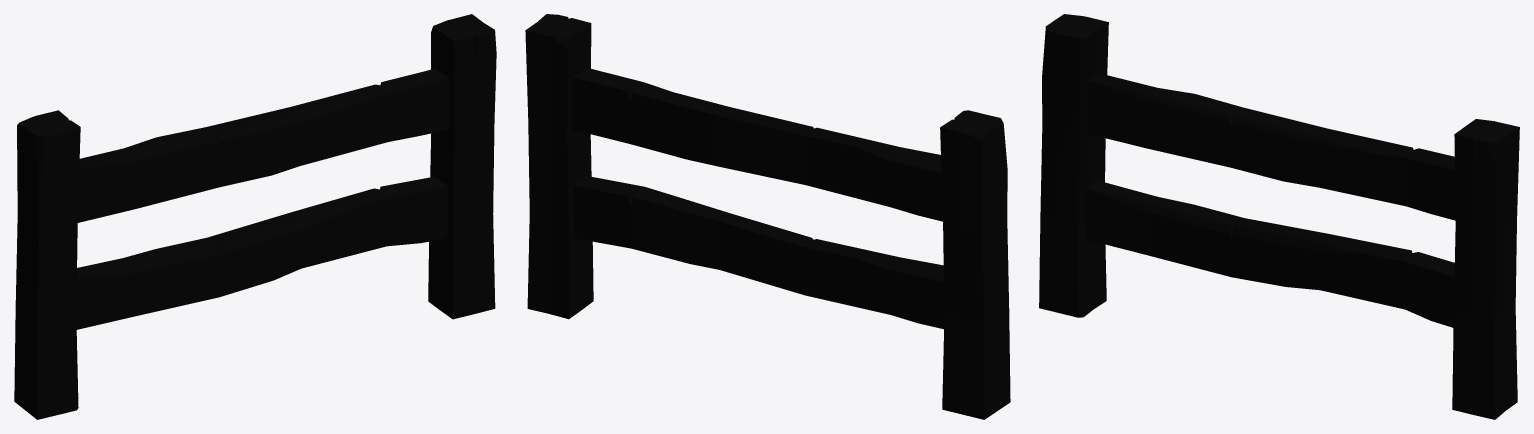
Rendered from valla.001.fbx.
3 renders of one model, left to right at view 1: azimuth 30°, elevation 25°; view 2: azimuth 150°, elevation 25°; view 3: azimuth 330°, elevation 25°, orthographic.
Visible parts, largest first — view 1: Cube.065; view 2: Cube.065; view 3: Cube.065.
Boxes of the visible parts, box(x1,y1,x2,y2) form: Cube.065: box(14, 14, 496, 419); Cube.065: box(525, 14, 1010, 419); Cube.065: box(1039, 14, 1519, 419).
Size of the model in its own units: 80.76 by 7.52 by 47.2.
